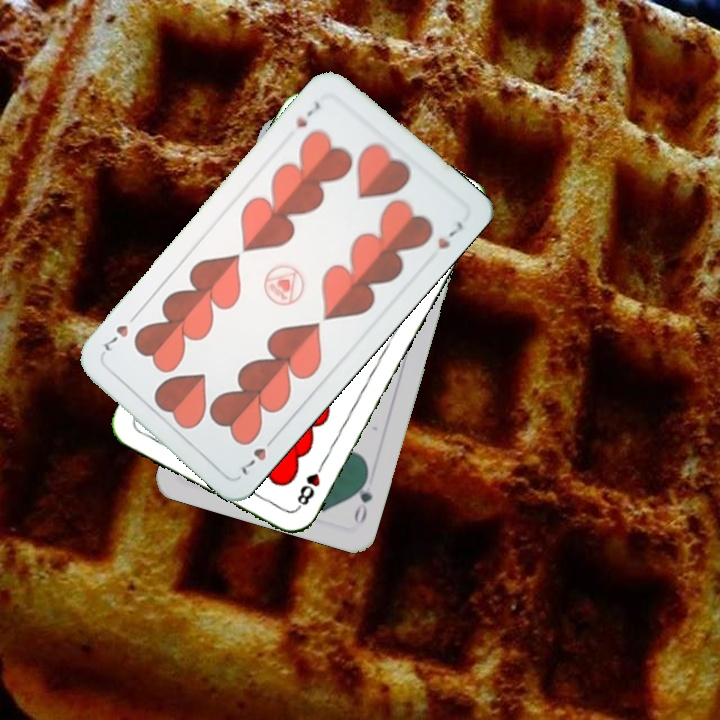GO: (349, 469, 375, 527)
H7: (235, 431, 280, 479), (292, 97, 323, 131)
H8: (293, 457, 328, 512)
